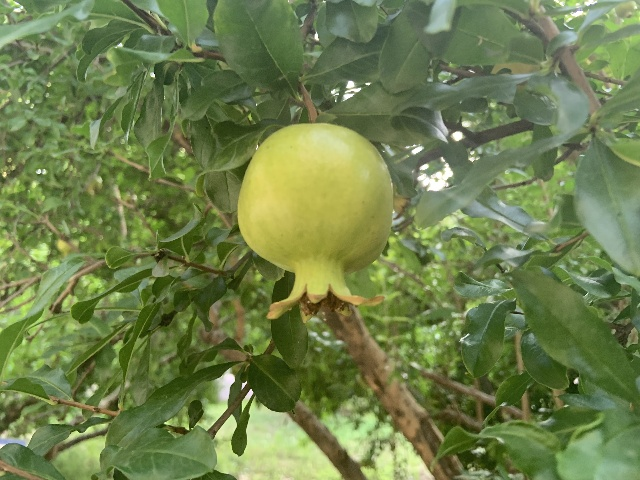mid-growth: (236, 121, 394, 323)
